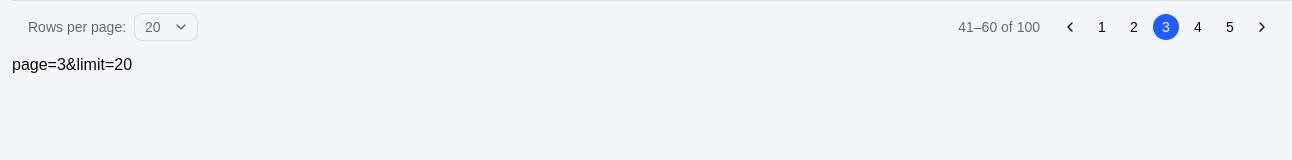
Test: PaginationControls › resets to page 1 when rows-per-page changes
Click the dropdown named "Rows per page": [166, 27] box [134,13,198,41]
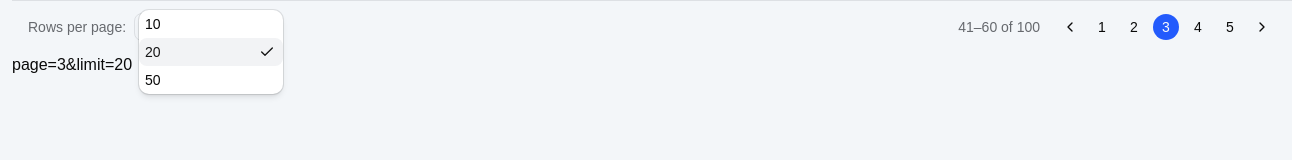
Click the option "10": [153, 24] box [145,16,161,32]
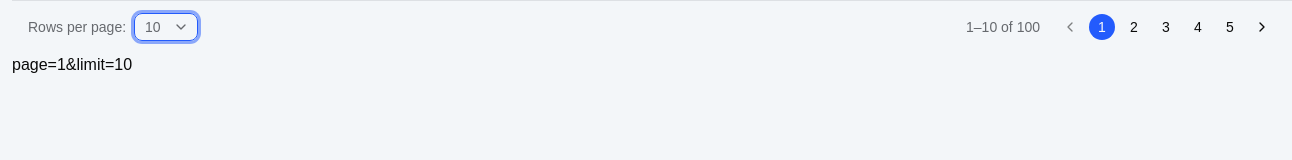
Now the text with test id "params" shows "page=1", box [12,56,132,73]
Now the text with test id "params" shows "limit=10", box [12,56,132,73]
